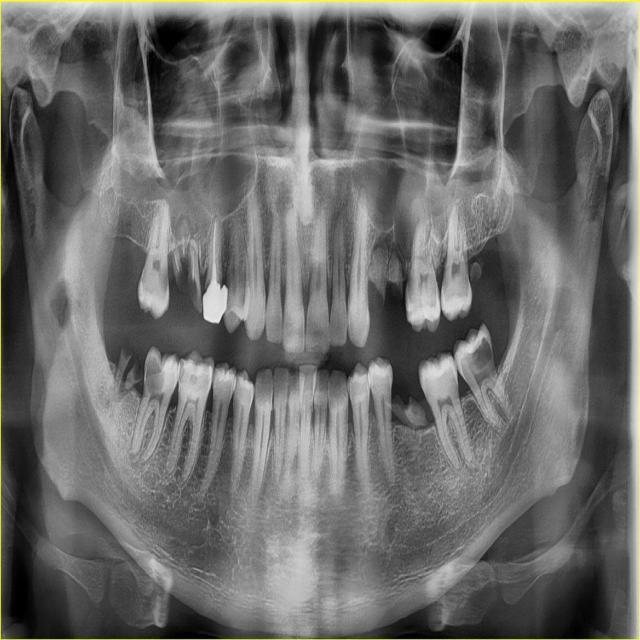71: (211, 260, 217, 287)
72: (167, 216, 205, 308), (385, 387, 434, 438), (363, 246, 392, 310), (107, 348, 134, 395), (384, 253, 406, 298), (119, 360, 148, 393), (467, 254, 485, 283)
74: (212, 221, 217, 262)
NucleOSS Implant: (195, 278, 235, 324)
Sterngold Implant: (465, 328, 493, 370), (142, 351, 165, 399), (158, 264, 169, 297), (177, 360, 188, 390), (137, 271, 149, 290), (186, 371, 200, 387)
